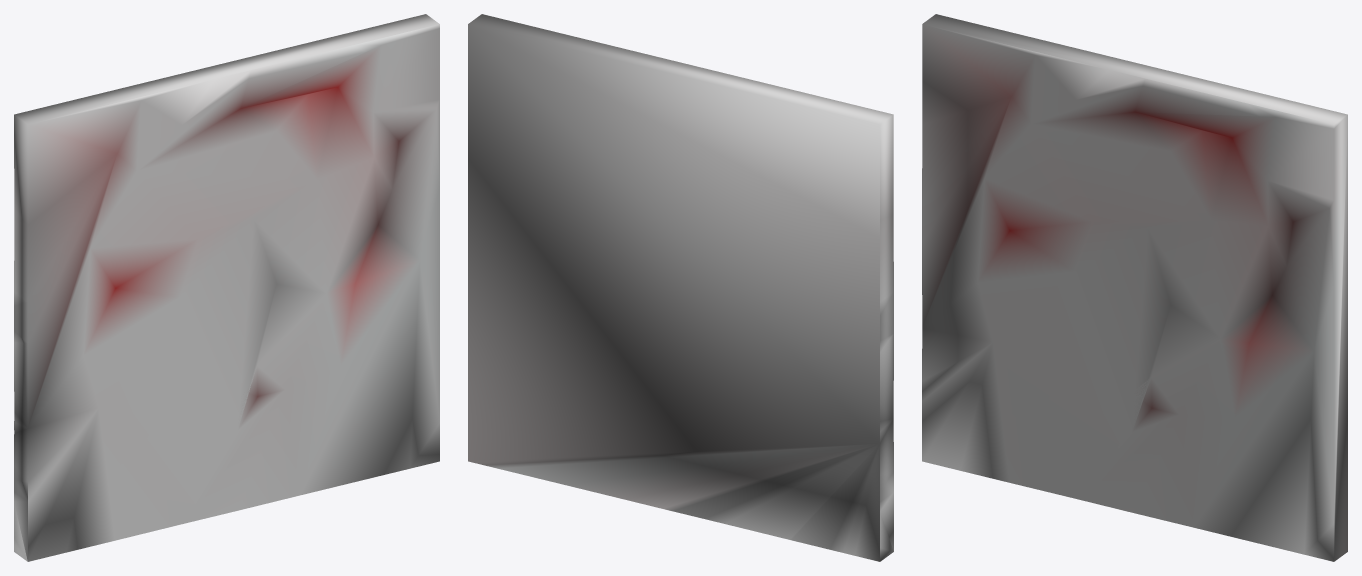
The model's file is SM_FA_Factory_W345_H350.fbx.
3 renders of one model, left to right at view 1: azimuth 30°, elevation 25°; view 2: azimuth 150°, elevation 25°; view 3: azimuth 330°, elevation 25°, orthographic.
Visible parts, largest first — view 1: SM_FA_Factory_W345_H350; view 2: SM_FA_Factory_W345_H350; view 3: SM_FA_Factory_W345_H350.
Boxes of the visible parts, box(x1,y1,x2,y2) form: SM_FA_Factory_W345_H350: box(14, 14, 439, 561); SM_FA_Factory_W345_H350: box(468, 14, 893, 561); SM_FA_Factory_W345_H350: box(922, 14, 1347, 561).
Bounding box in the file's own units: 345 × 20 × 350.
